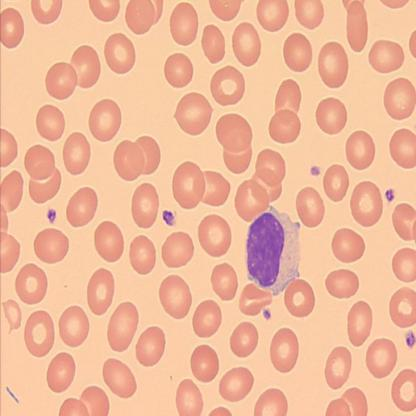Atypical lymphocyte: (246, 206, 302, 296)
